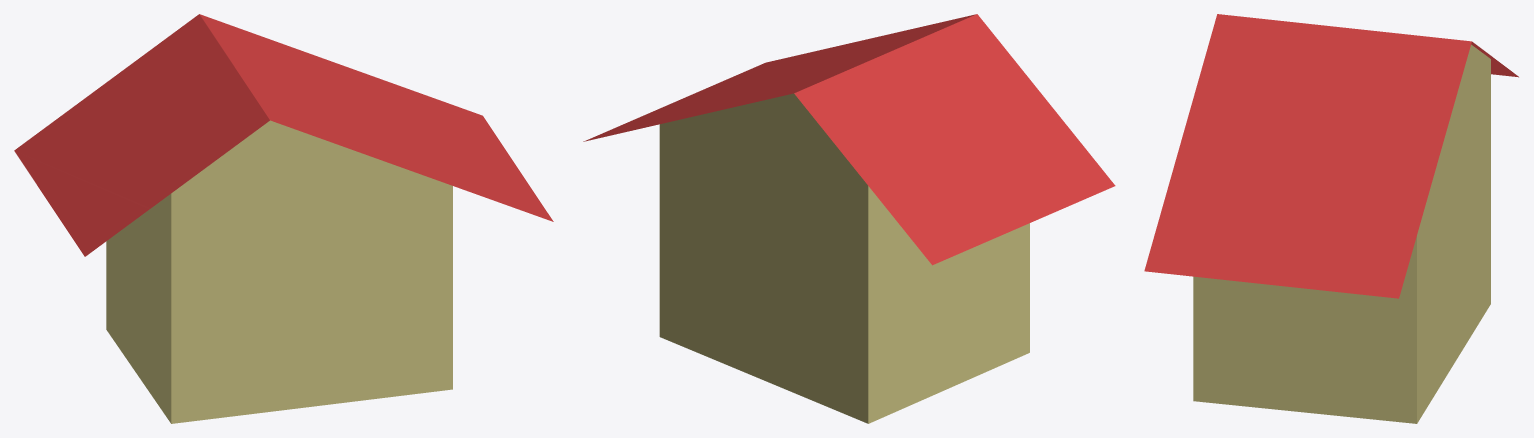
The picture shows the model from 3 angles, left to right: view 1: azimuth 30°, elevation 25°; view 2: azimuth 150°, elevation 25°; view 3: azimuth 270°, elevation 25°; orthographic projection.
Bounding box in the file's own units: 15.49 × 10.79 × 9.62.
